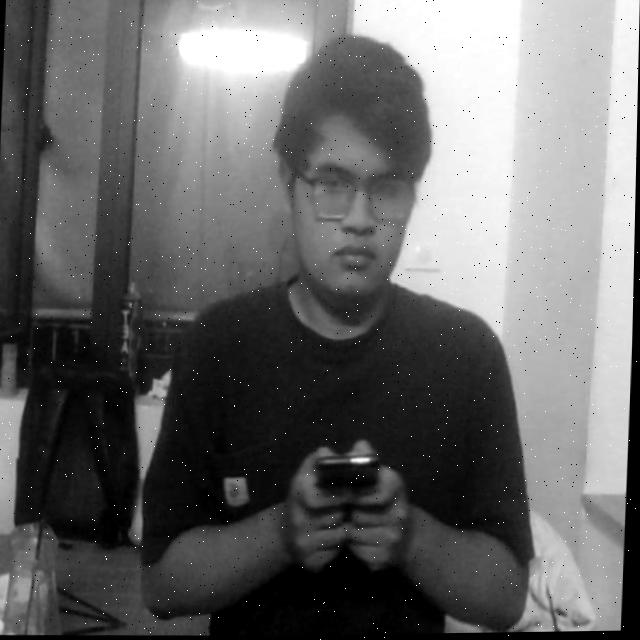phone: (303, 424, 393, 525)
